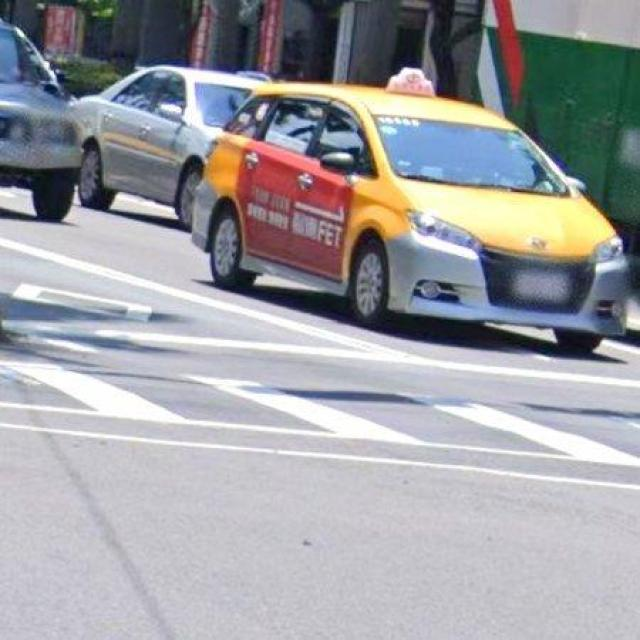Taxi: (192, 67, 630, 355)
